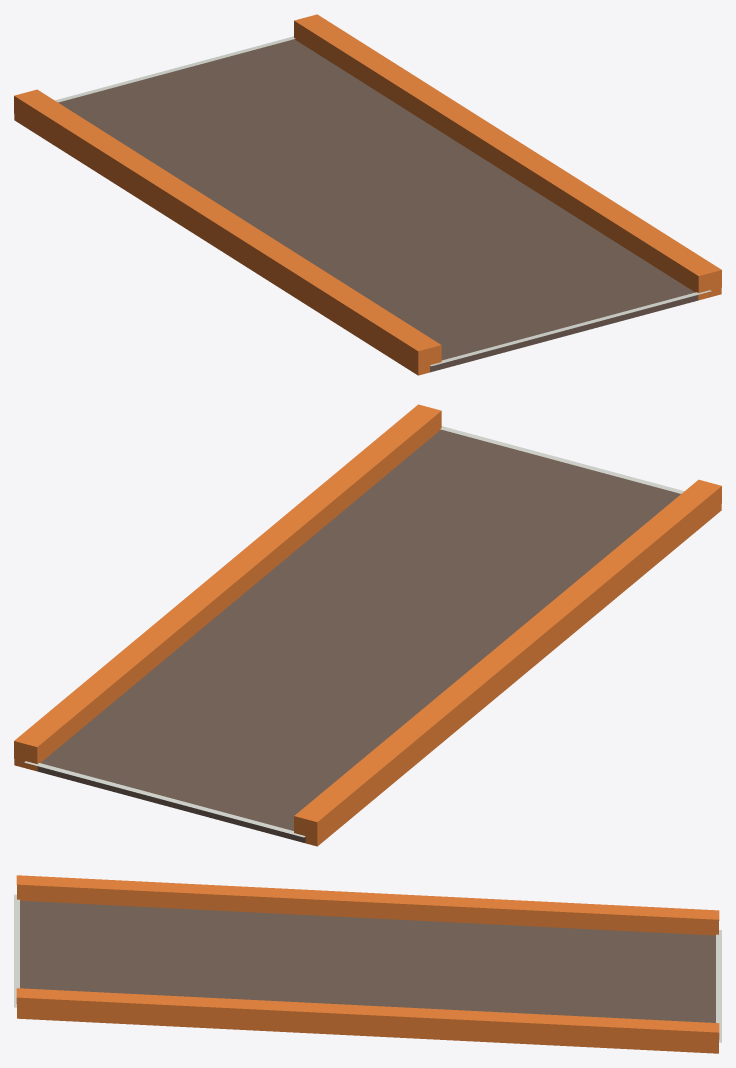
File: SM_MP_Film_C_5_0.fbx
The picture shows the model from 3 angles, top to bottom: view 1: azimuth 30°, elevation 25°; view 2: azimuth 150°, elevation 25°; view 3: azimuth 270°, elevation 25°; orthographic projection. The views are drawn at different scales.
Visible parts, largest first — view 1: SM_MP_Film_C_5_0; view 2: SM_MP_Film_C_5_0; view 3: SM_MP_Film_C_5_0.
Boxes of the visible parts, x1=… form: SM_MP_Film_C_5_0: x1=14, y1=14, x2=721, y2=375; SM_MP_Film_C_5_0: x1=14, y1=404, x2=721, y2=846; SM_MP_Film_C_5_0: x1=14, y1=875, x2=721, y2=1053.
Size of what is drawn, in the model's own units: 260 by 605 by 59.13.
